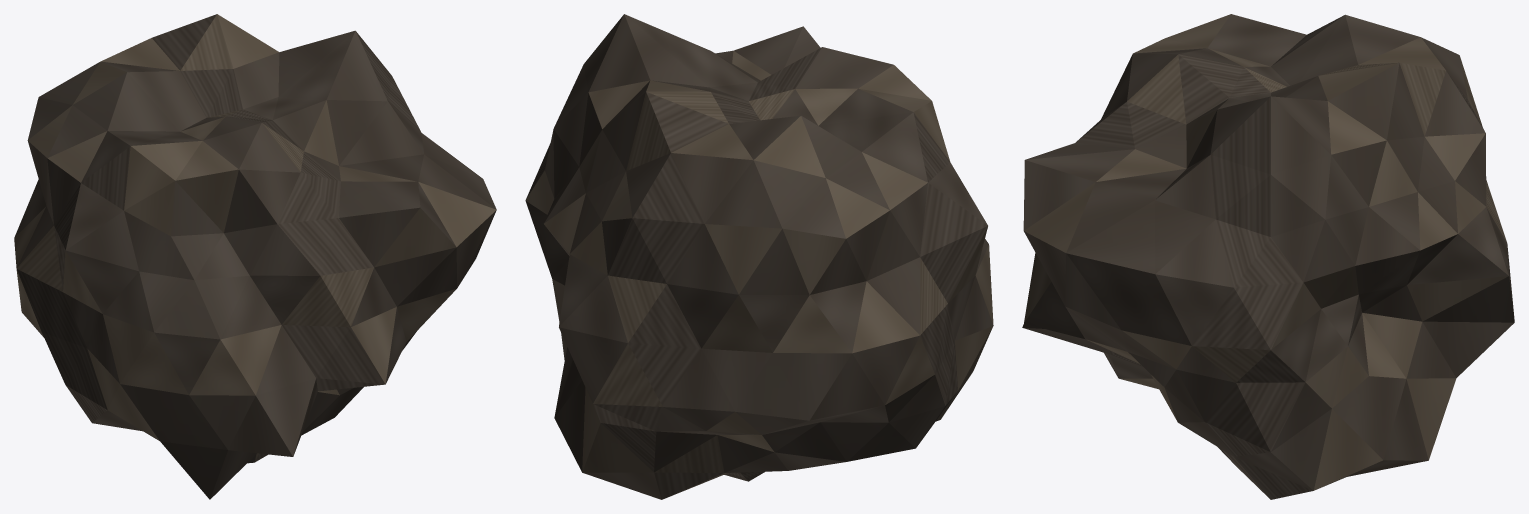
File: asteroid_4.glb
3 renders of one model, left to right at view 1: azimuth 30°, elevation 25°; view 2: azimuth 150°, elevation 25°; view 3: azimuth 270°, elevation 25°, orthographic. The views are drawn at different scales.
Parts seen in each view (by area): view 1: asteroid_metallic; view 2: asteroid_metallic; view 3: asteroid_metallic.
Part boxes in pixels (bbox=[...]): asteroid_metallic: bbox=[14, 14, 496, 499]; asteroid_metallic: bbox=[525, 14, 993, 499]; asteroid_metallic: bbox=[1022, 14, 1514, 499].
Bounding box in the file's own units: 8 × 7.58 × 7.89.
1 material, 1 textured.
